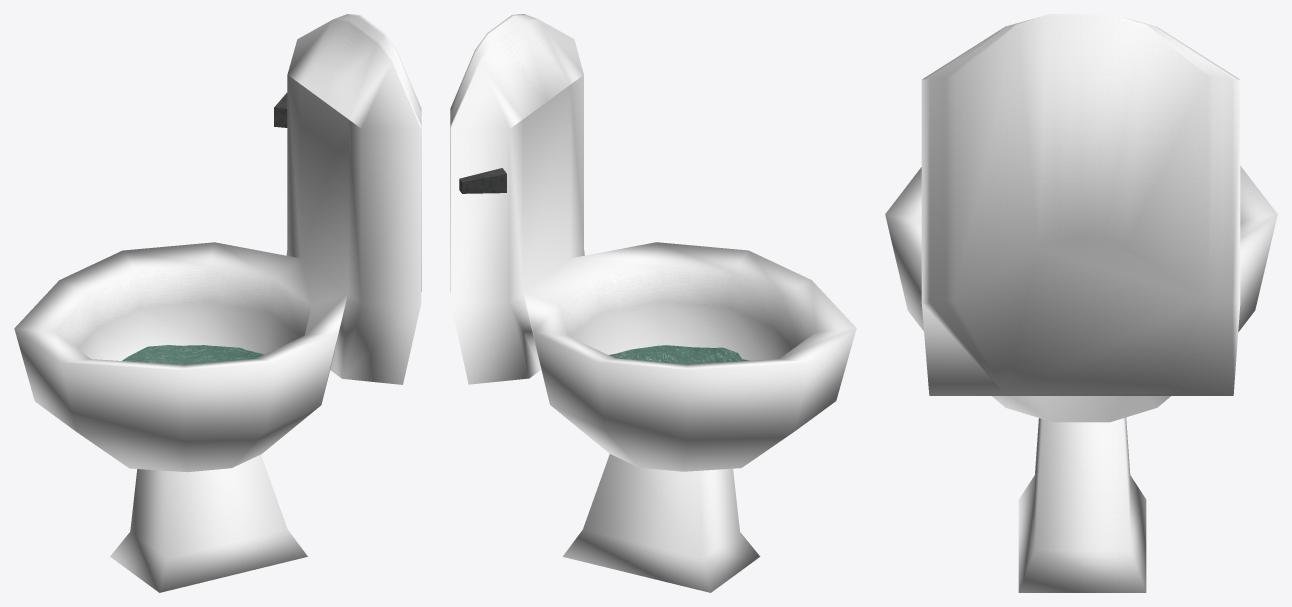
File: Toilet.glb
3 renders of one model, left to right at view 1: azimuth 30°, elevation 25°; view 2: azimuth 150°, elevation 25°; view 3: azimuth 270°, elevation 25°, orthographic. The views are drawn at different scales.
Visible parts, largest first — view 1: Toilet, Water; view 2: Toilet, Water, Flusher; view 3: Toilet.
Boxes of the visible parts, box(x1,y1,x2,y2) form: Toilet: box(14, 14, 421, 592); Water: box(122, 345, 263, 364); Toilet: box(450, 14, 856, 592); Water: box(609, 345, 748, 364); Flusher: box(459, 168, 506, 193); Toilet: box(885, 14, 1277, 592).
Size of the model in its own units: 1.17 by 1.64 by 0.9223.
Materials: 4 (3 with a texture image).
